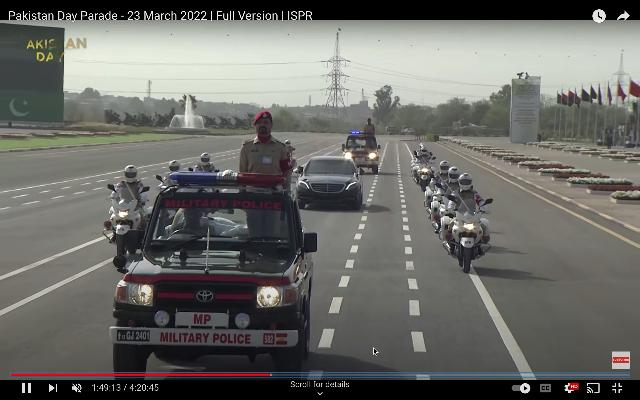plate: (114, 326, 152, 342)
